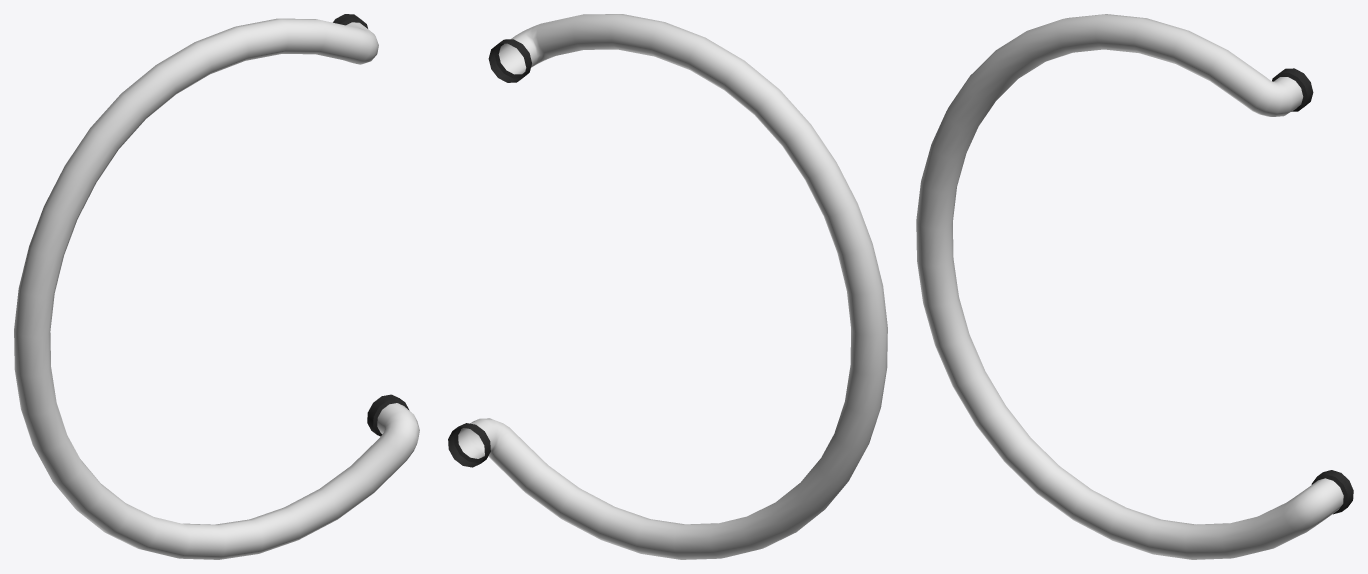
The model's file is LettersNeon01_C.FBX.
3 renders of one model, left to right at view 1: azimuth 30°, elevation 25°; view 2: azimuth 150°, elevation 25°; view 3: azimuth 330°, elevation 25°, orthographic.
Parts seen in each view (by area): view 1: LettersNeon01_C; view 2: LettersNeon01_C; view 3: LettersNeon01_C.
Boxes of the visible parts, bbox=[...] form: LettersNeon01_C: bbox=[14, 14, 419, 559]; LettersNeon01_C: bbox=[448, 14, 887, 559]; LettersNeon01_C: bbox=[916, 14, 1353, 559].
Size of what is drawn, in the model's own units: 0.3988 by 0.4908 by 0.054.
